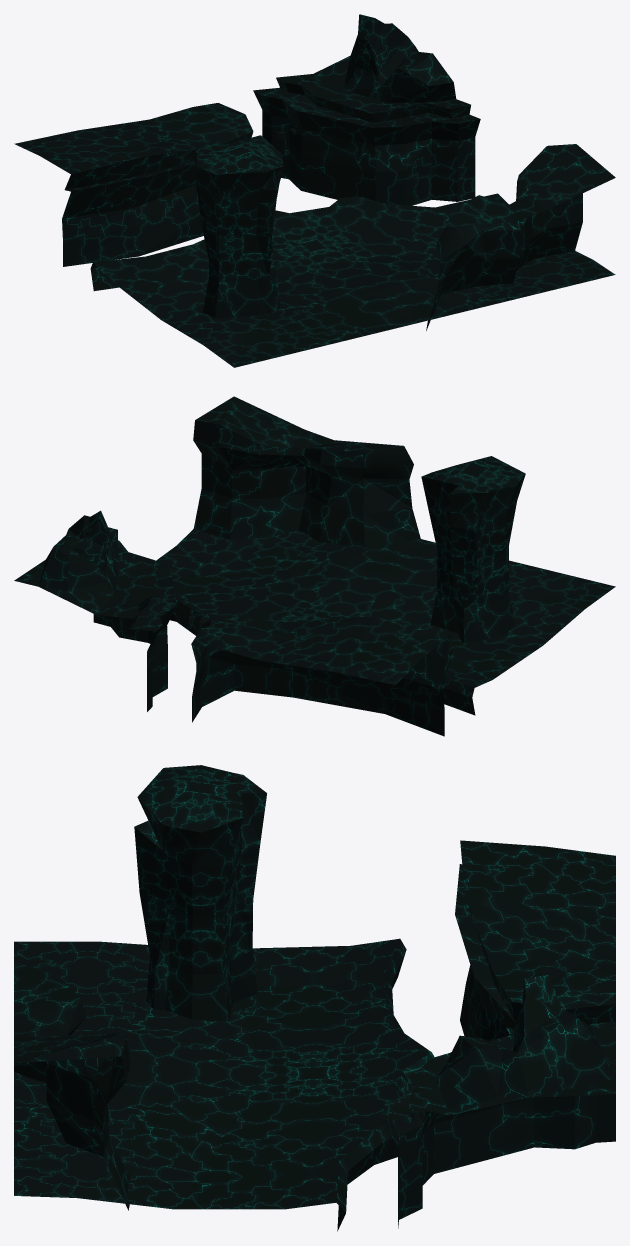
Rendered from Sol.FBX.
3 renders of one model, top to bottom at view 1: azimuth 30°, elevation 25°; view 2: azimuth 150°, elevation 25°; view 3: azimuth 270°, elevation 25°, orthographic. The views are drawn at different scales.
Visible parts, largest first — view 1: Sol_001; view 2: Sol_001; view 3: Sol_001.
Boxes of the visible parts, bbox=[...] form: Sol_001: bbox=[14, 14, 615, 367]; Sol_001: bbox=[14, 396, 615, 736]; Sol_001: bbox=[14, 765, 615, 1231].
Size of the model in its own units: 10007 by 4442 by 10001.
